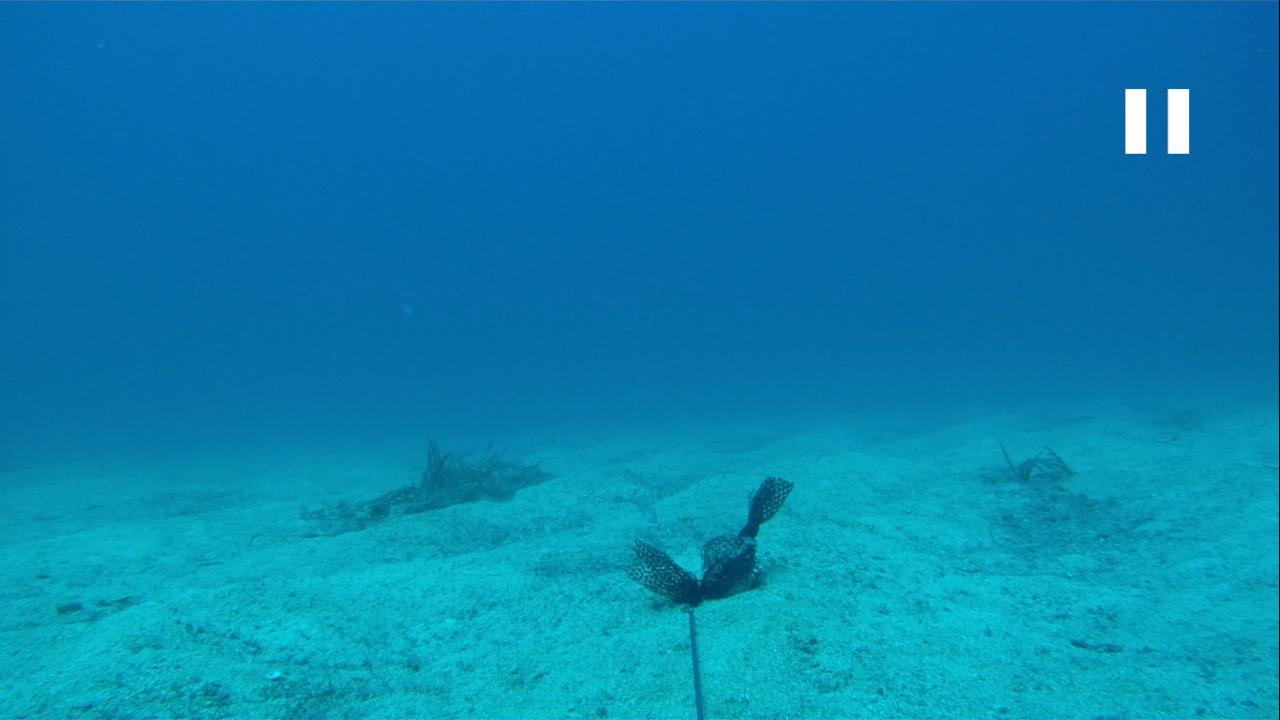dactylopterus: (291, 494, 394, 538)
raor: (618, 490, 662, 526)
